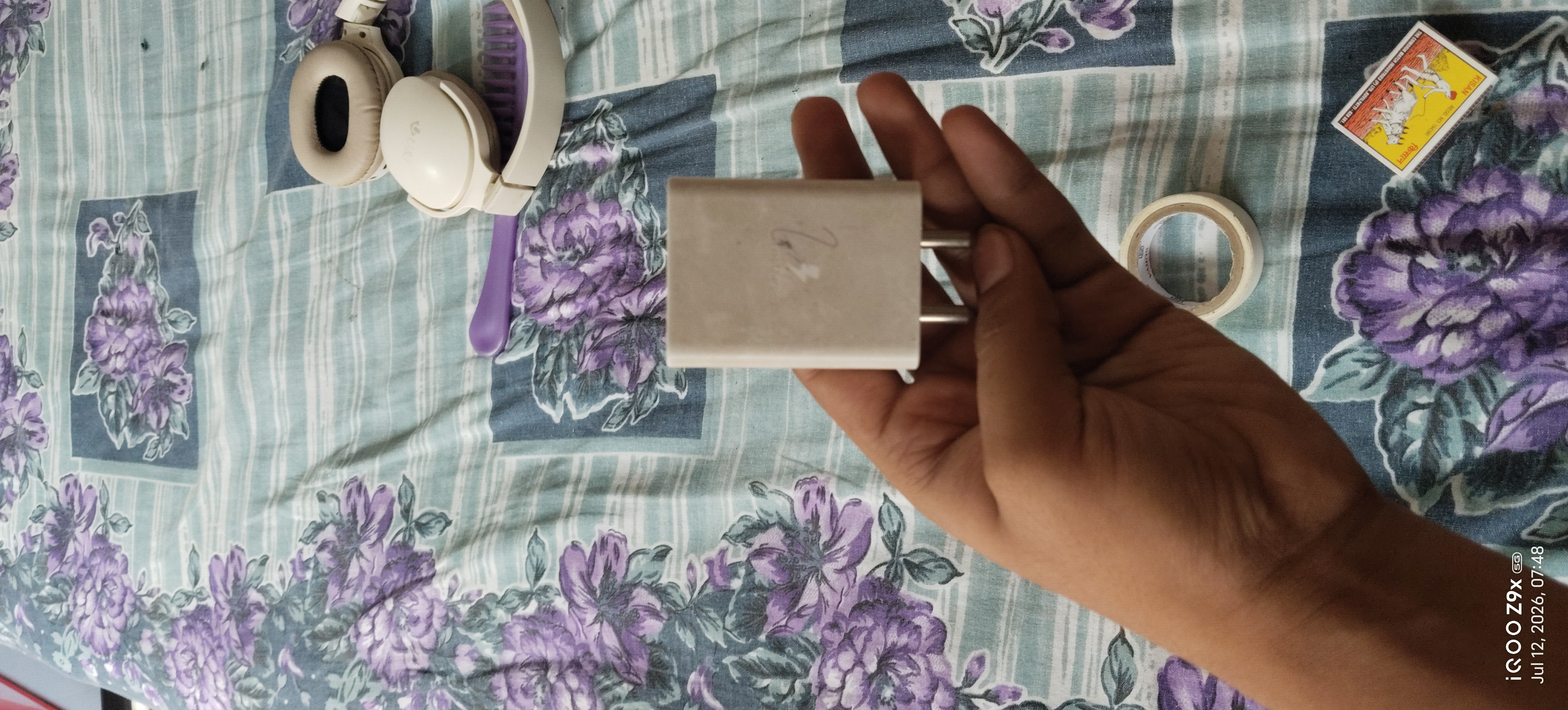charger: (637, 156, 1016, 388)
matchbox: (1317, 12, 1511, 199)
tape_roll: (1087, 166, 1277, 336)
